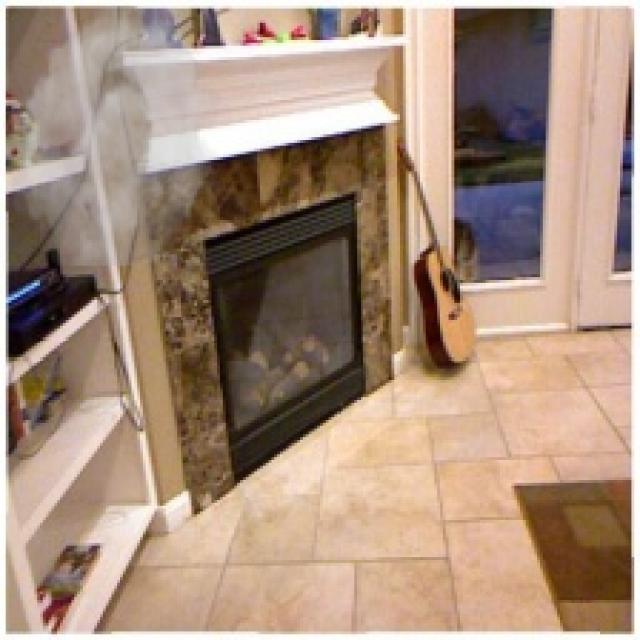smoke: (3, 6, 223, 266)
